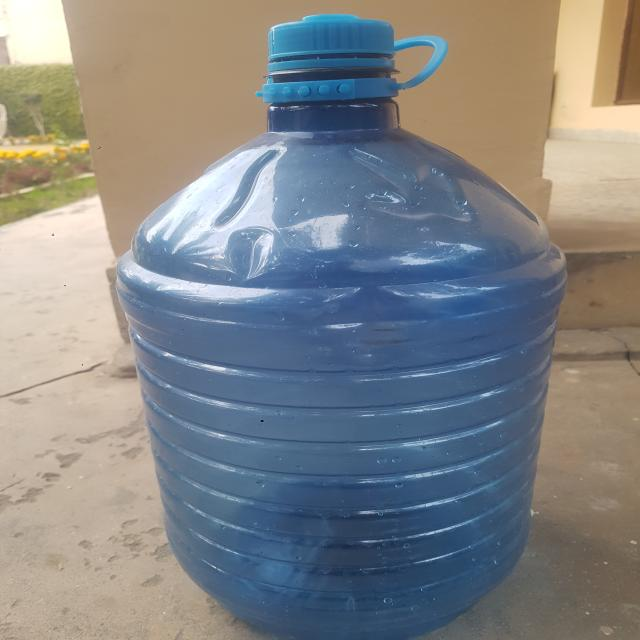general: (112, 14, 568, 638)
